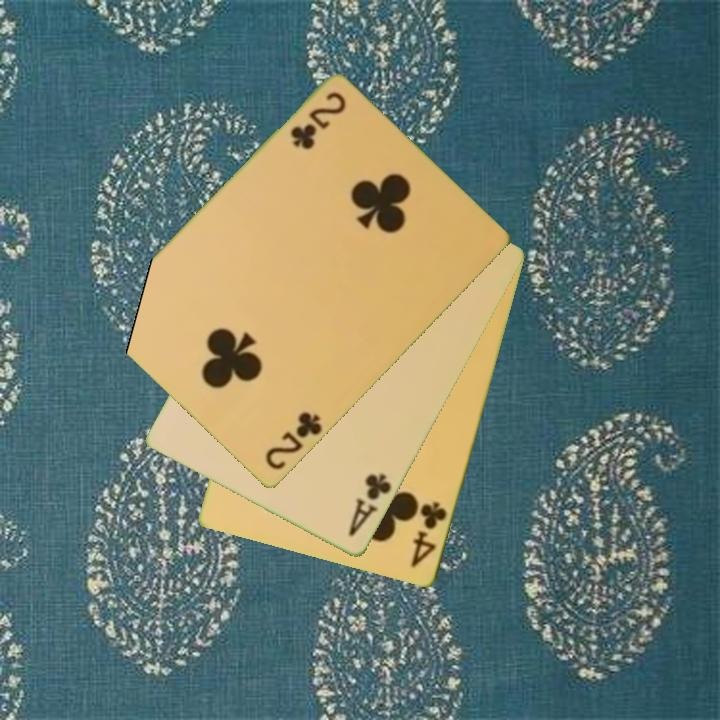2c: (262, 409, 325, 473), (286, 89, 349, 153)
4c: (408, 498, 450, 572)
Ac: (345, 470, 395, 540)
